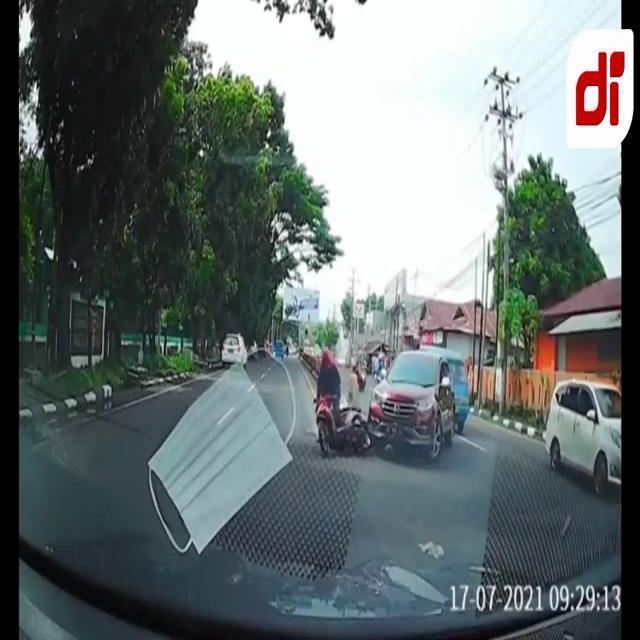accident: (316, 349, 456, 461)
